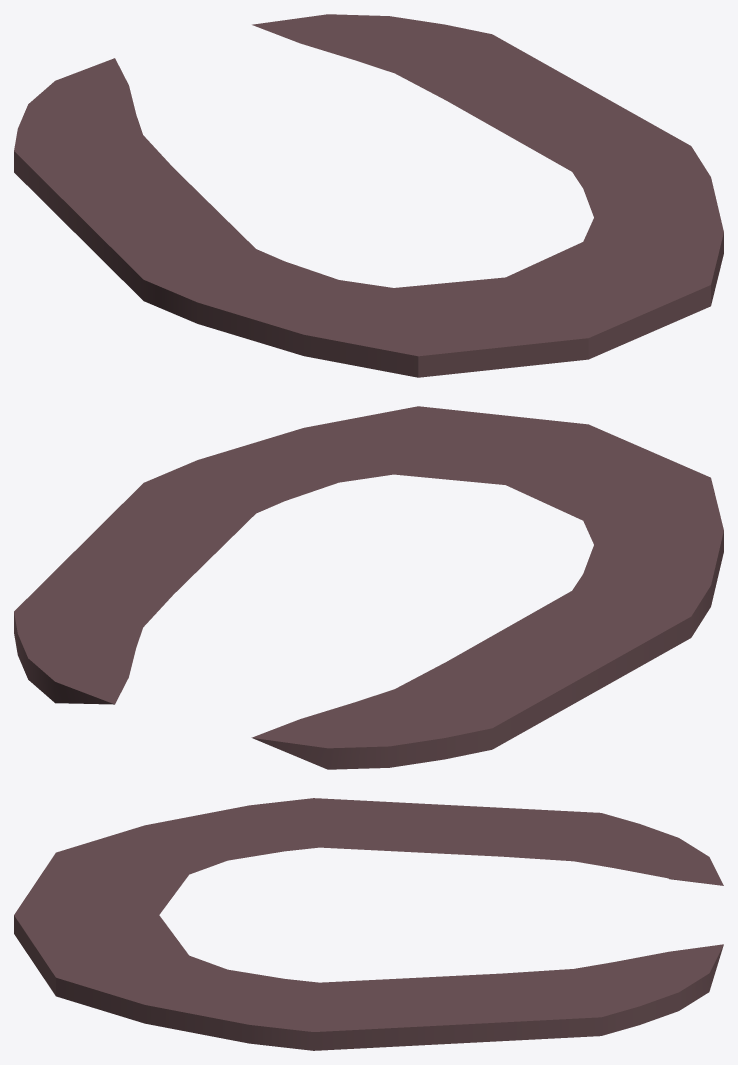
File: prop_ToiletSeat.fbx
3 views of the same model, one above another, from view 1: azimuth 30°, elevation 25°; view 2: azimuth 150°, elevation 25°; view 3: azimuth 270°, elevation 25° (orthographic). The views are drawn at different scales.
Visible parts, largest first — view 1: ToiletSeat; view 2: ToiletSeat; view 3: ToiletSeat.
Boxes of the visible parts, left/top/right/bottom form: ToiletSeat: left=14, top=14, right=723, bottom=377; ToiletSeat: left=14, top=406, right=723, bottom=769; ToiletSeat: left=14, top=798, right=723, bottom=1050.
Bounding box in the file's own units: 326 × 12.16 × 417.
